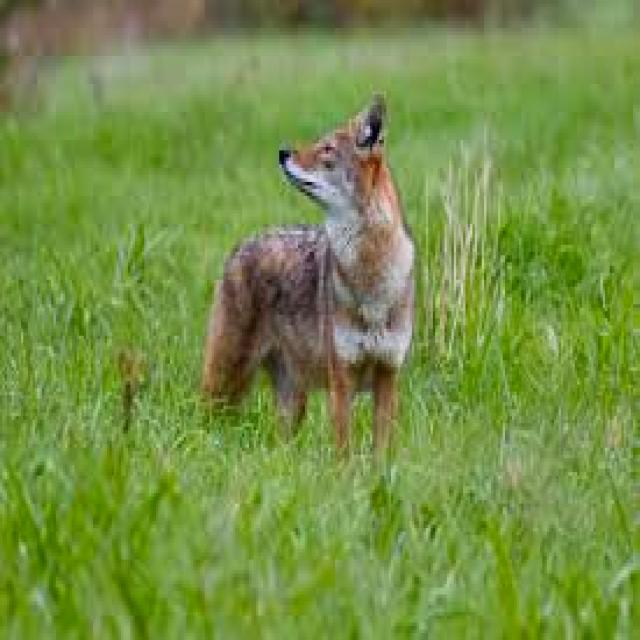coyote: (202, 94, 412, 455)
